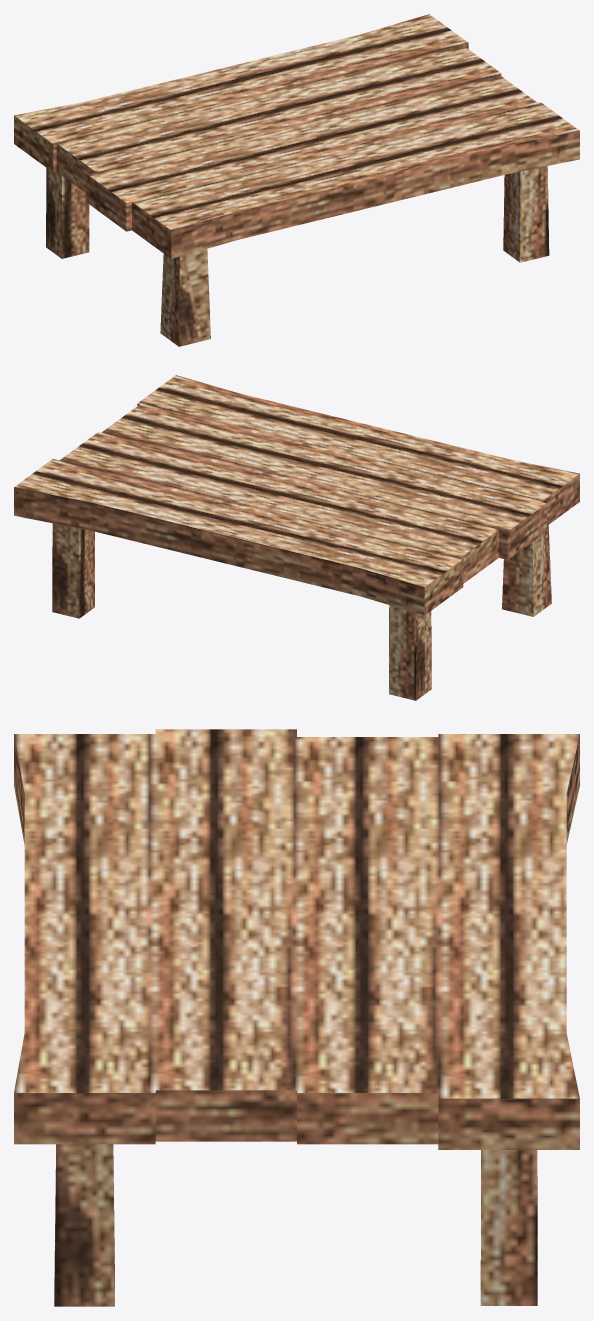
The model's file is Table 1.fbx.
3 renders of one model, top to bottom at view 1: azimuth 30°, elevation 25°; view 2: azimuth 150°, elevation 25°; view 3: azimuth 270°, elevation 25°, orthographic. The views are drawn at different scales.
Visible parts, largest first — view 1: Plane; view 2: Plane; view 3: Plane.
Boxes of the visible parts, x1,y1,x2,y2 form: Plane: (14, 14, 579, 346); Plane: (14, 375, 579, 700); Plane: (14, 729, 579, 1306).
Size of the model in its own units: 309 by 90 by 200.
